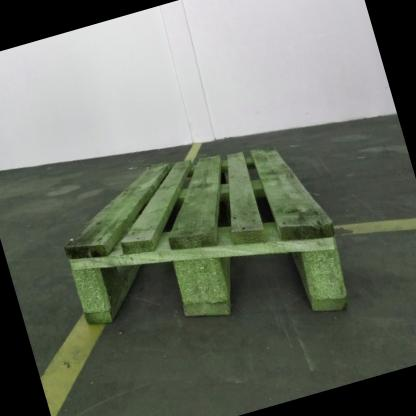BoxFace: (60, 141, 355, 331)
